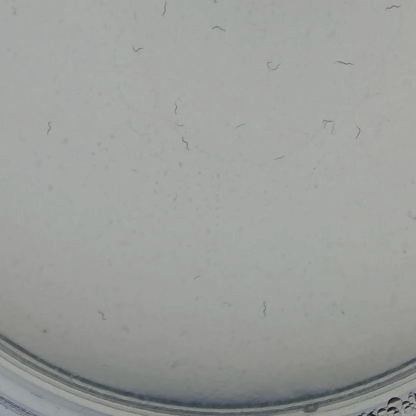worm: (258, 297, 273, 322), (319, 116, 338, 135), (331, 54, 357, 67), (260, 59, 280, 75), (207, 22, 229, 36), (177, 136, 194, 153), (350, 123, 366, 141), (269, 150, 288, 164), (126, 44, 146, 57), (97, 306, 108, 327), (121, 316, 132, 336), (43, 120, 57, 135), (231, 120, 250, 131), (159, 0, 172, 16), (383, 2, 402, 11), (172, 97, 181, 115), (190, 273, 202, 284), (406, 210, 416, 221), (172, 121, 187, 128), (223, 299, 234, 307)
